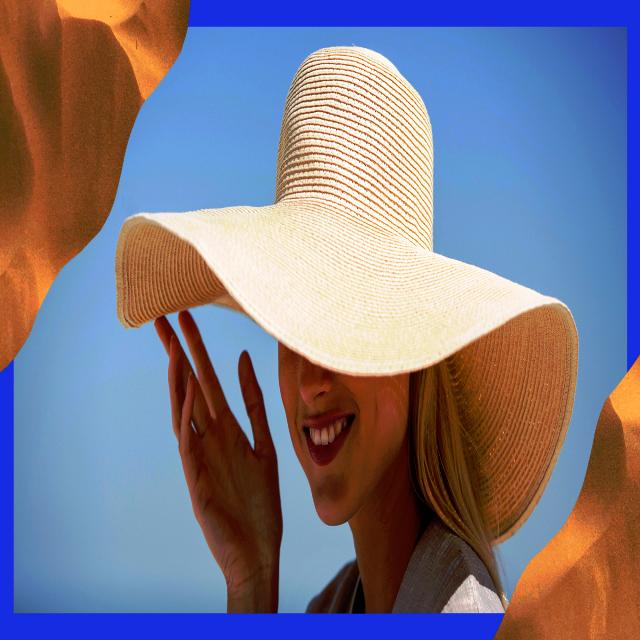TOPI: (111, 36, 582, 558)
